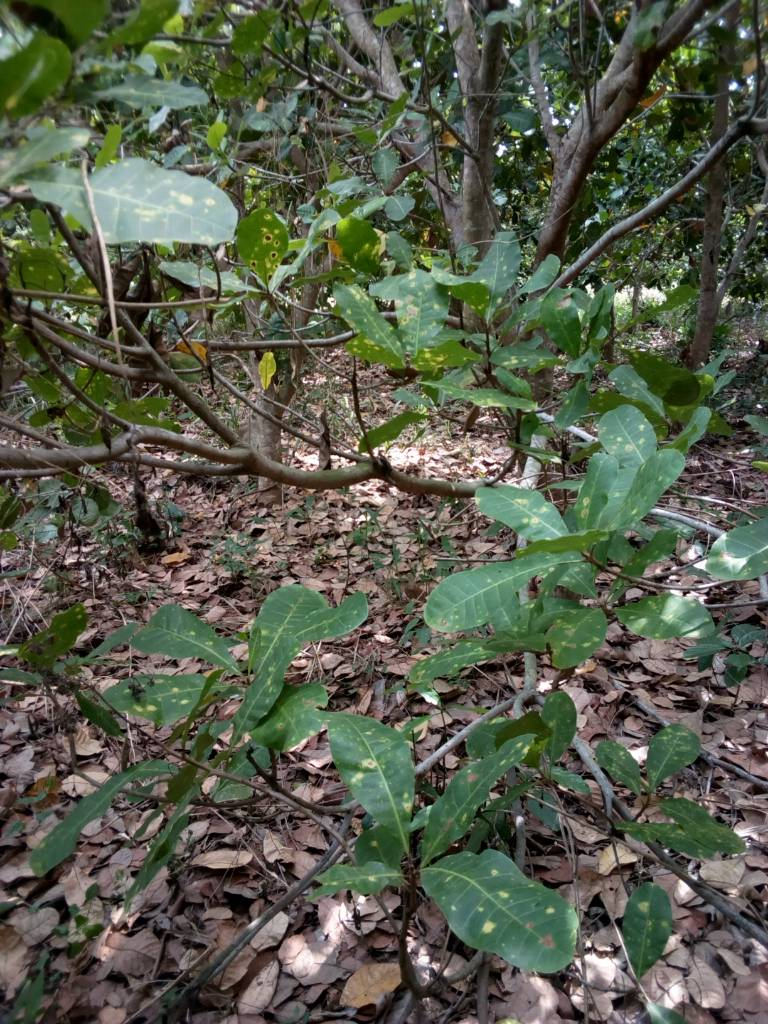Carence minérale: (221, 564, 369, 735), (233, 578, 373, 740), (22, 147, 246, 247), (420, 846, 588, 972), (416, 538, 546, 658), (110, 602, 249, 683), (466, 478, 604, 554), (368, 265, 471, 361), (613, 579, 738, 646), (229, 202, 315, 285), (593, 400, 673, 467)
